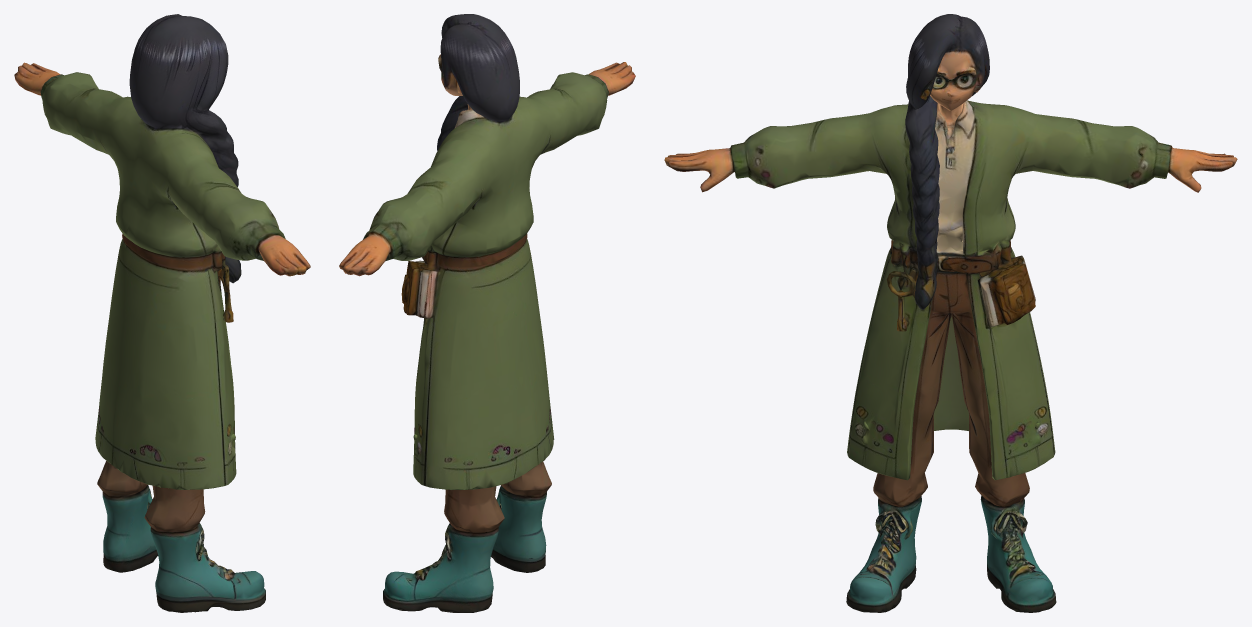
The model's file is n2_librarian.3200bf02.glb.
3 renders of one model, left to right at view 1: azimuth 30°, elevation 25°; view 2: azimuth 150°, elevation 25°; view 3: azimuth 270°, elevation 25°, orthographic. The views are drawn at different scales.
Parts seen in each view (by area): view 1: tripo_node_880436a8-ddb5-40fe-b8b3-27fae84c58bc; view 2: tripo_node_880436a8-ddb5-40fe-b8b3-27fae84c58bc; view 3: tripo_node_880436a8-ddb5-40fe-b8b3-27fae84c58bc.
Part boxes in pixels (left/top/right/bottom): tripo_node_880436a8-ddb5-40fe-b8b3-27fae84c58bc: left=14, top=14, right=310, bottom=612; tripo_node_880436a8-ddb5-40fe-b8b3-27fae84c58bc: left=339, top=14, right=635, bottom=612; tripo_node_880436a8-ddb5-40fe-b8b3-27fae84c58bc: left=664, top=14, right=1237, bottom=612.
Bounding box in the file's own units: 0.2156 × 1 × 0.9076.
1 material, 1 textured.
